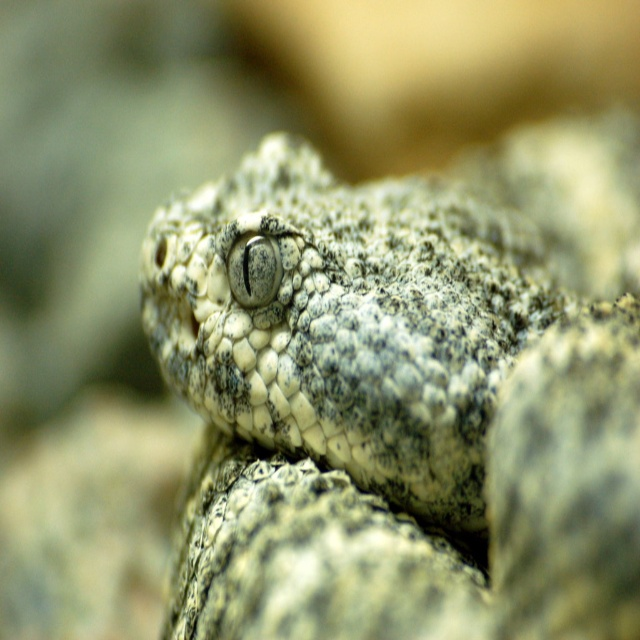Snake: (141, 134, 640, 639)
